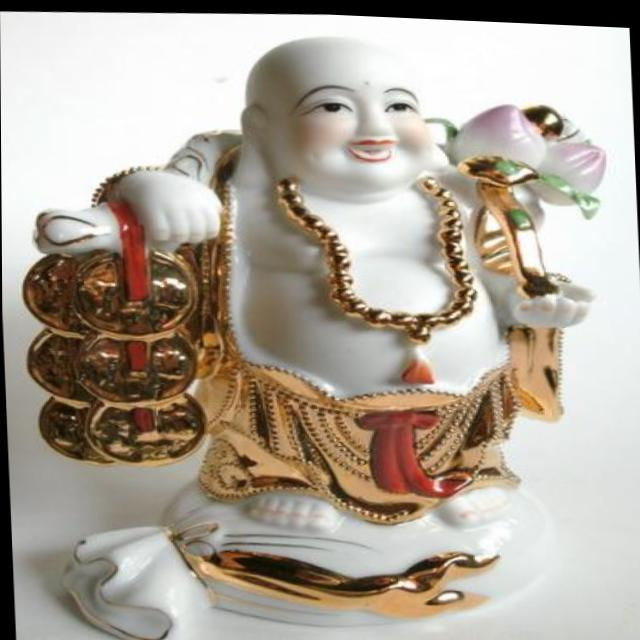Smiling Buddha: (135, 17, 555, 518)
